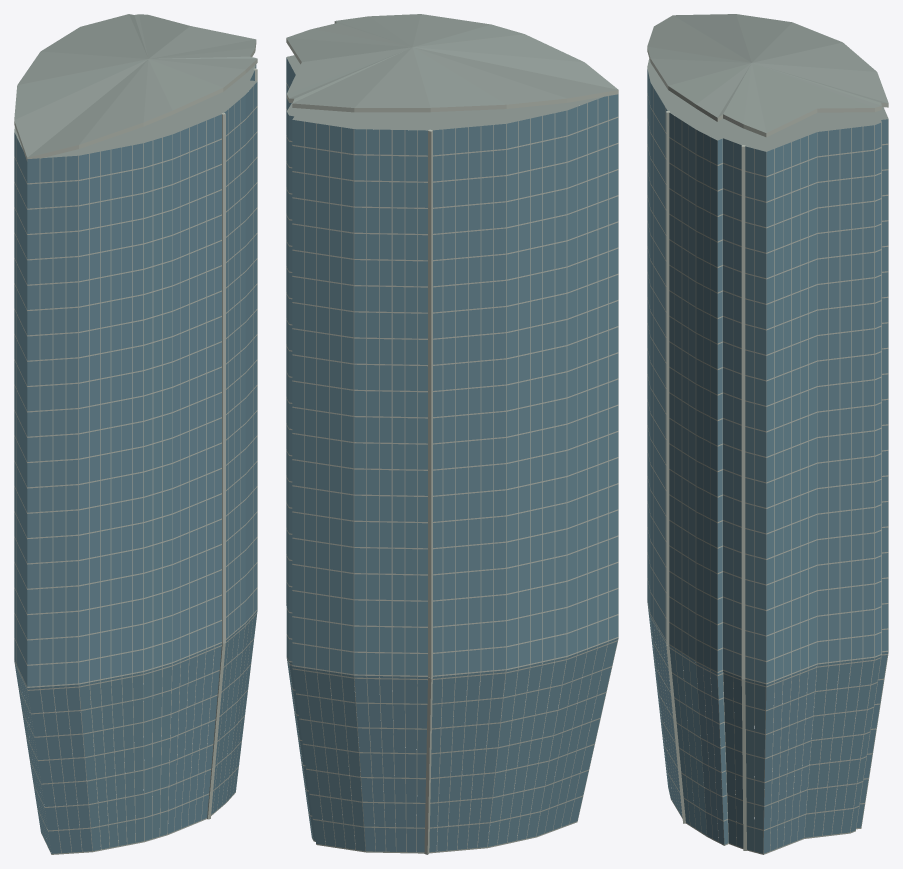
Rendered from tour-oxygene-near.glb.
3 views of the same model, side by side, from view 1: azimuth 30°, elevation 25°; view 2: azimuth 150°, elevation 25°; view 3: azimuth 270°, elevation 25° (orthographic). The views are drawn at different scales.
Parts seen in each view (by area): view 1: tour-oxygene-0-glass, tour-oxygene-0-frame, tour-oxygene-0-roof; view 2: tour-oxygene-0-glass, tour-oxygene-0-frame, tour-oxygene-0-roof; view 3: tour-oxygene-0-glass, tour-oxygene-0-frame, tour-oxygene-0-roof.
Boxes of the visible parts, x1=… form: tour-oxygene-0-glass: x1=14, y1=64, x2=257, y2=853; tour-oxygene-0-frame: x1=14, y1=40, x2=257, y2=854; tour-oxygene-0-roof: x1=14, y1=14, x2=257, y2=157; tour-oxygene-0-glass: x1=286, y1=58, x2=618, y2=852; tour-oxygene-0-frame: x1=286, y1=21, x2=618, y2=854; tour-oxygene-0-roof: x1=286, y1=14, x2=618, y2=130; tour-oxygene-0-glass: x1=647, y1=69, x2=888, y2=853; tour-oxygene-0-frame: x1=647, y1=48, x2=888, y2=854; tour-oxygene-0-roof: x1=647, y1=14, x2=888, y2=151.
Bounding box in the file's own units: 44.7 × 115 × 33.72.
